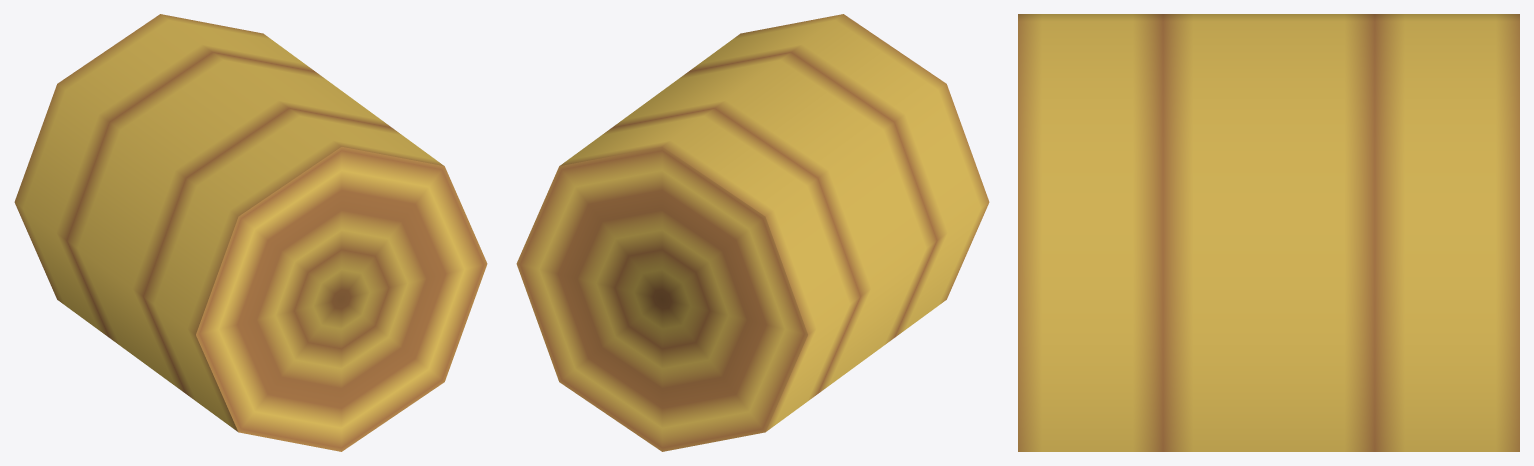
File: prop_hay_1fa1.glb
The picture shows the model from 3 angles, left to right: view 1: azimuth 30°, elevation 25°; view 2: azimuth 150°, elevation 25°; view 3: azimuth 270°, elevation 25°; orthographic projection. The views are drawn at different scales.
Visible parts, largest first — view 1: prop_hay_1fa1; view 2: prop_hay_1fa1; view 3: prop_hay_1fa1.
Part boxes in pixels (bbox=[...]): prop_hay_1fa1: bbox=[14, 14, 487, 451]; prop_hay_1fa1: bbox=[516, 14, 989, 451]; prop_hay_1fa1: bbox=[1018, 14, 1519, 451].
Size of the model in its own units: 0.5746 by 0.5746 by 0.6187.
1 material, 1 textured.
